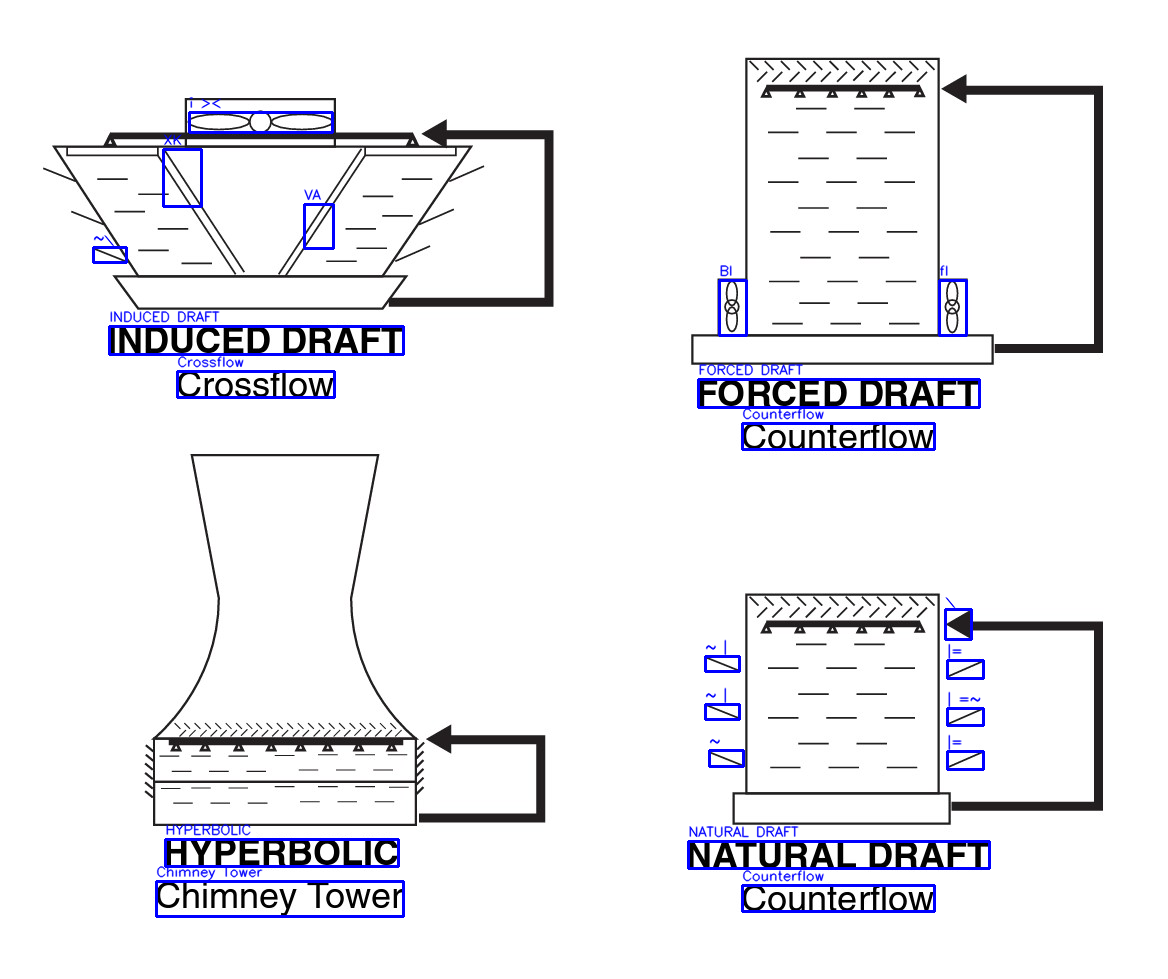Outro: (136, 445, 555, 835), (677, 49, 1116, 371), (32, 89, 561, 319), (696, 581, 1112, 830)
